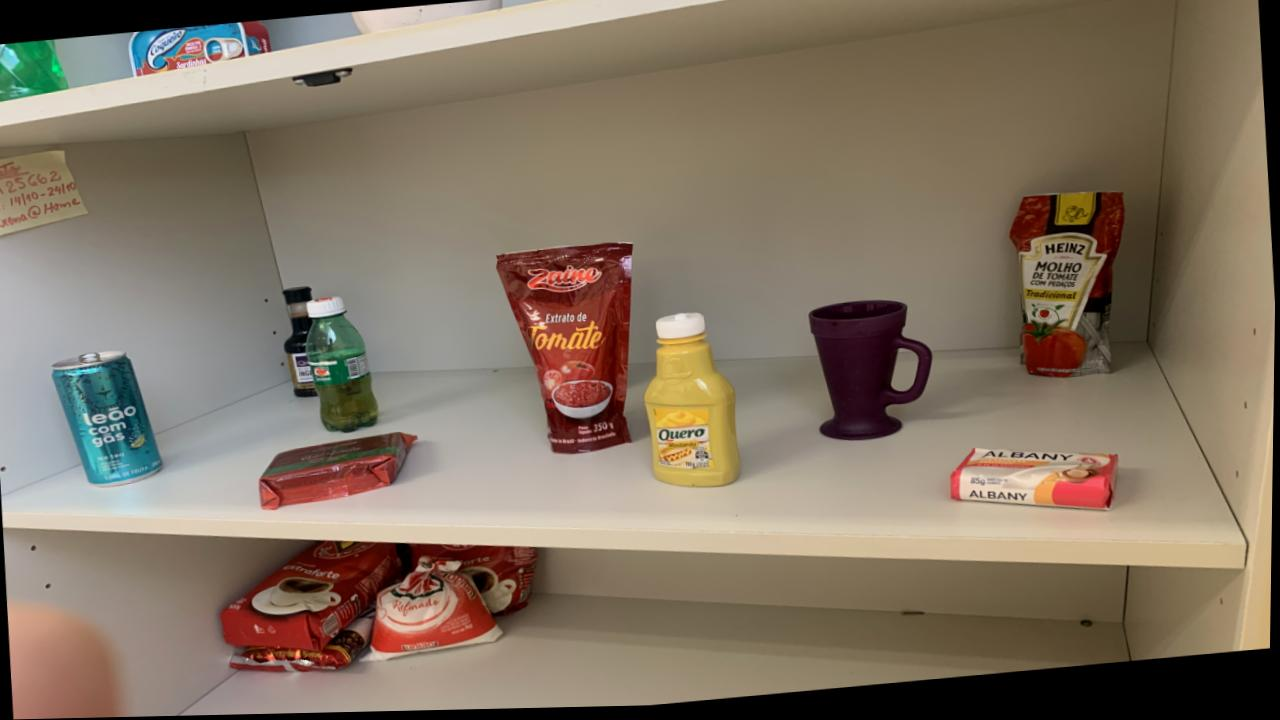Detergent-Cleanup_Items: (0, 39, 69, 100)
English_Sauce-Pantry_Items: (284, 287, 317, 399)
Guarana-Drinks: (307, 298, 379, 433)
Guava-Snacks: (260, 433, 418, 511)
Mustard-Pantry_Items: (646, 315, 741, 490)
Pig_Safe-Miscellaneous: (350, 0, 503, 35)
Soap-Cleanup_Items: (952, 452, 1120, 515)
Tea-Drinks: (53, 351, 164, 487)
Tomato_Sauce-Pantry_Items: (498, 245, 634, 456), (1010, 196, 1125, 383)
Tuna_Can-Pantry_Items: (129, 21, 270, 77)
